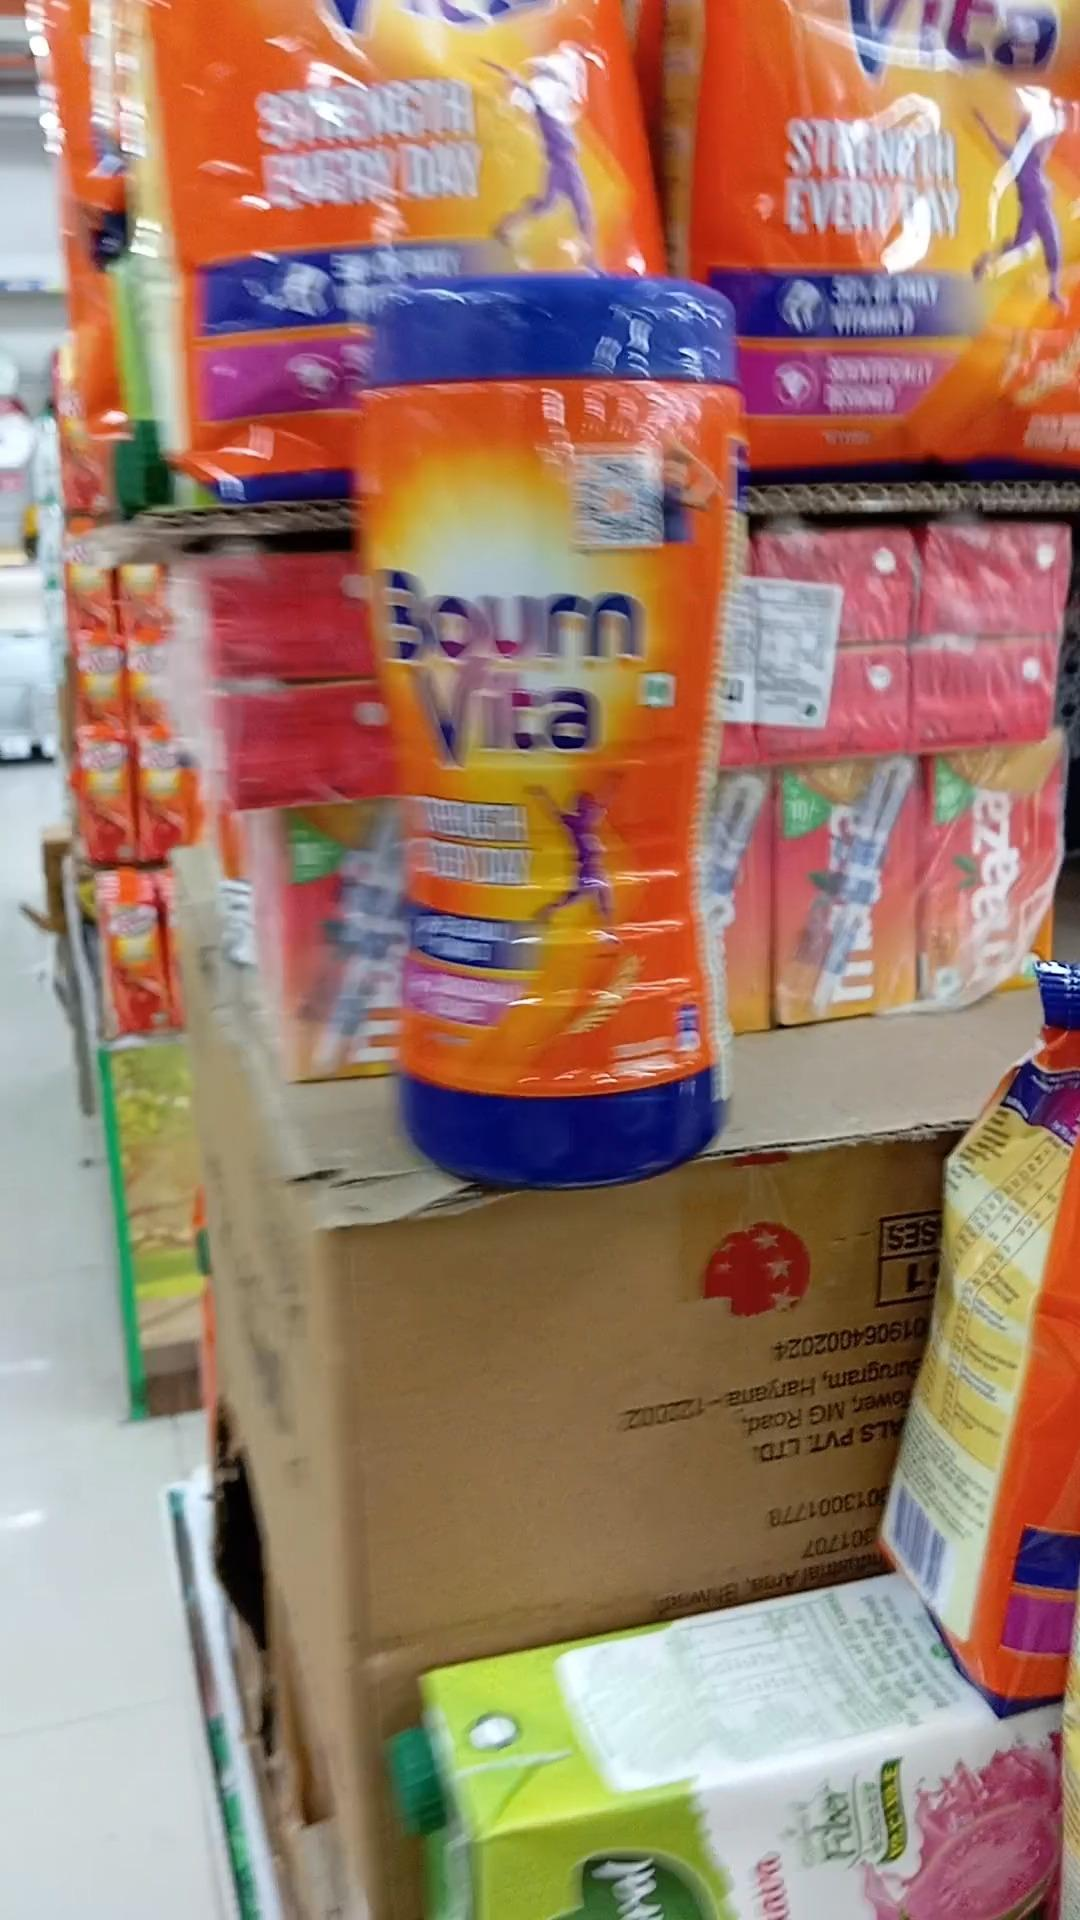BOURN_VITA_500_G_JAR: (363, 265, 735, 1168)
